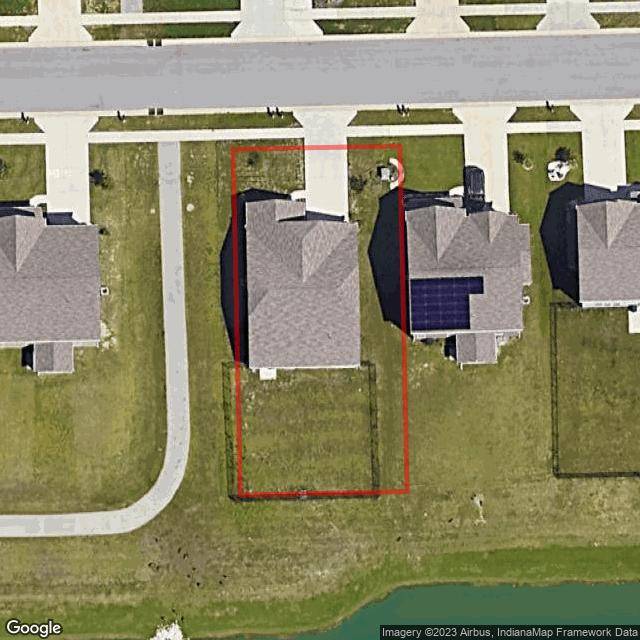Driveway: (306, 151, 346, 217)
Extra Driveway: (291, 110, 356, 145)
Extra Lawn: (233, 112, 302, 128), (347, 110, 399, 127), (232, 139, 304, 147), (348, 137, 399, 144)
Extra Sidewalk: (232, 128, 304, 141), (347, 125, 400, 138)
House: (246, 201, 360, 369)
Sidewalk: (259, 369, 276, 380), (290, 190, 306, 201)
